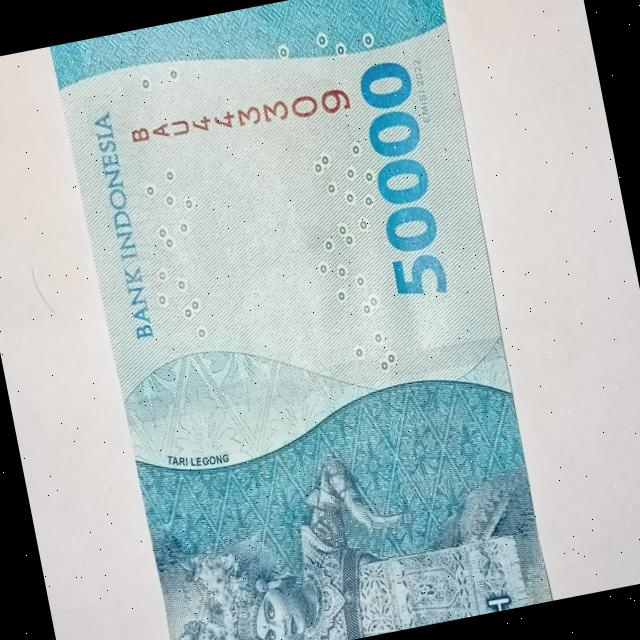50K: (33, 0, 561, 640)
